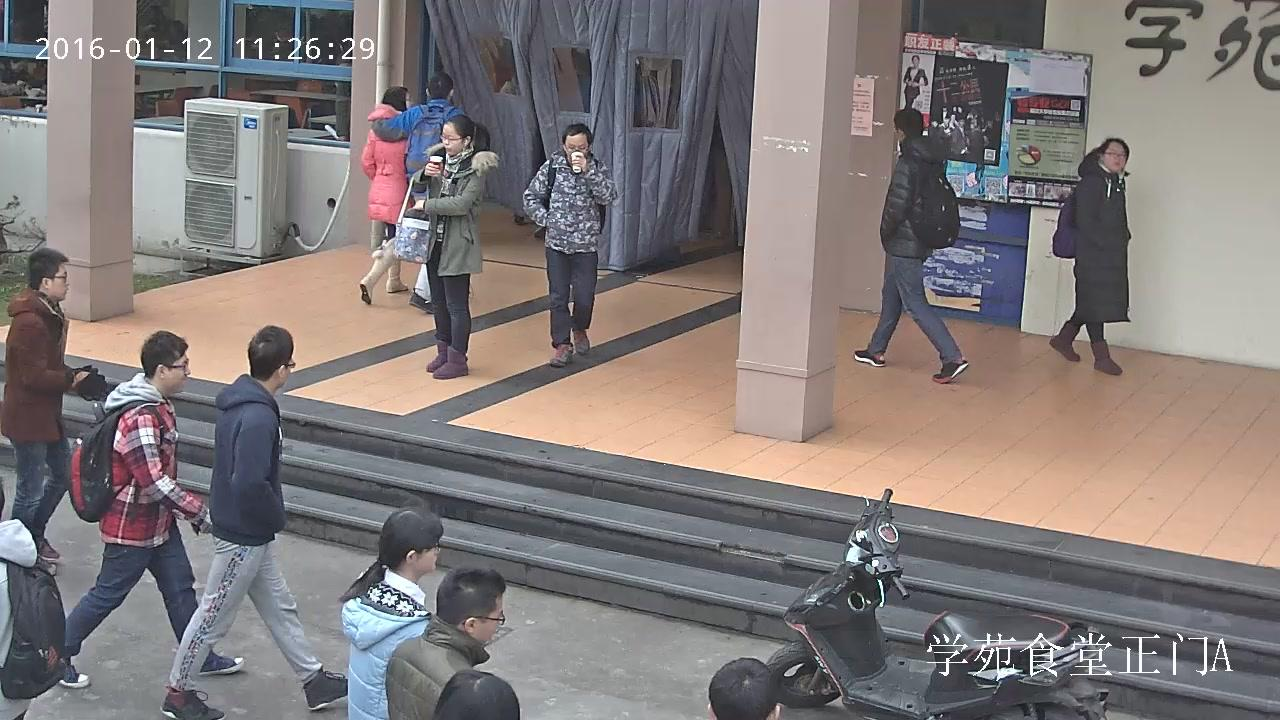person: (158, 325, 348, 720), (57, 332, 245, 689), (0, 249, 107, 564), (853, 109, 969, 384), (371, 70, 473, 314), (409, 112, 499, 380), (521, 122, 616, 368), (339, 510, 444, 720), (1048, 138, 1130, 376), (385, 570, 506, 717), (0, 476, 68, 720), (359, 84, 414, 304), (0, 56, 39, 96), (901, 54, 927, 108)
